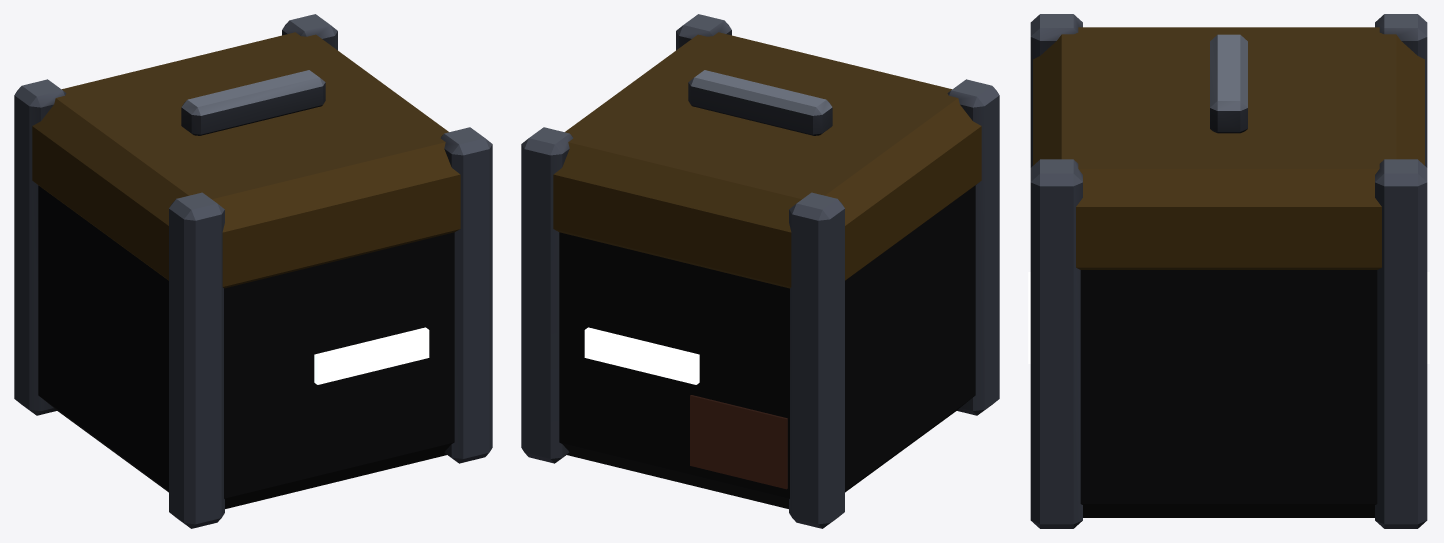
The model's file is Crate.glb.
The picture shows the model from 3 angles, left to right: view 1: azimuth 30°, elevation 25°; view 2: azimuth 150°, elevation 25°; view 3: azimuth 270°, elevation 25°; orthographic projection. The views are drawn at different scales.
Parts seen in each view (by area): view 1: Body, Label_Glow; view 2: Body, Label_Glow; view 3: Body, Label_Glow.
Boxes of the visible parts, x1,y1,x2,y2 form: Body: [14, 14, 492, 528]; Label_Glow: [314, 327, 429, 384]; Body: [521, 14, 999, 528]; Label_Glow: [584, 327, 699, 384]; Body: [1030, 14, 1427, 528]; Label_Glow: [1028, 272, 1429, 363].
Bounding box in the file's own units: 4.15 × 4.4 × 4.2.
